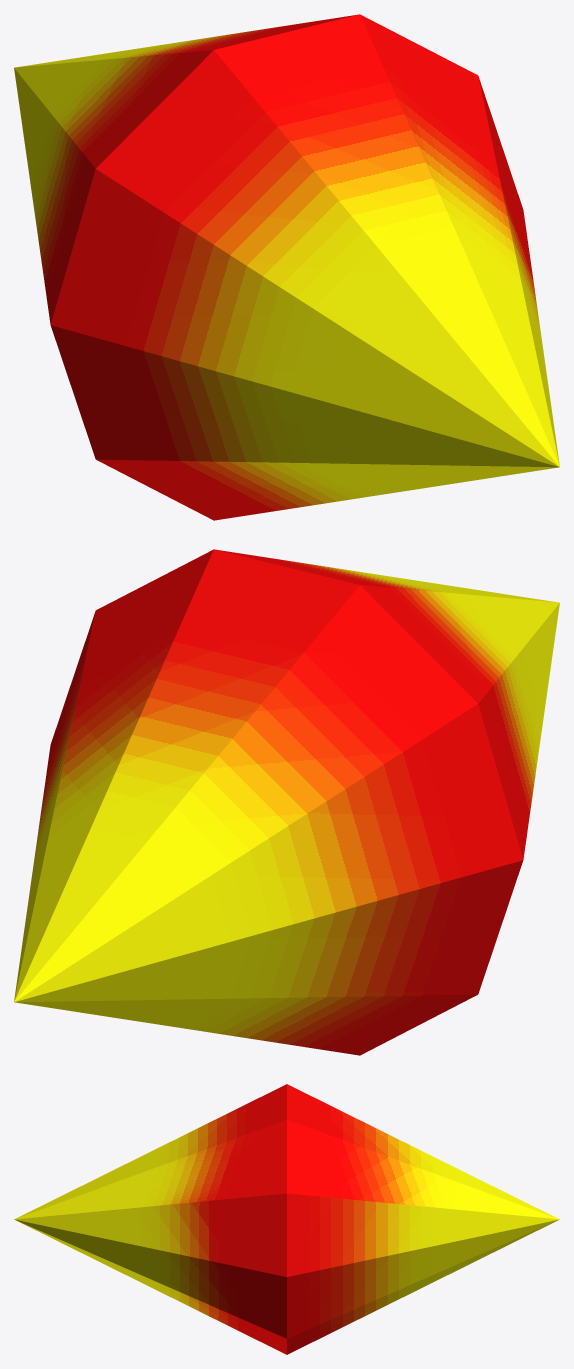
Rendered from rocket__zingerammo.glb.
The picture shows the model from 3 angles, top to bottom: view 1: azimuth 30°, elevation 25°; view 2: azimuth 150°, elevation 25°; view 3: azimuth 270°, elevation 25°; orthographic projection. The views are drawn at different scales.
Visible parts, largest first — view 1: pCone100; view 2: pCone100; view 3: pCone100.
Part boxes in pixels (bbox=[...]): pCone100: bbox=[14, 14, 559, 520]; pCone100: bbox=[14, 549, 559, 1055]; pCone100: bbox=[14, 1084, 559, 1354].
Size of the model in its own units: 0.5 by 0.4755 by 1.
Materials: 1 (1 with a texture image).
